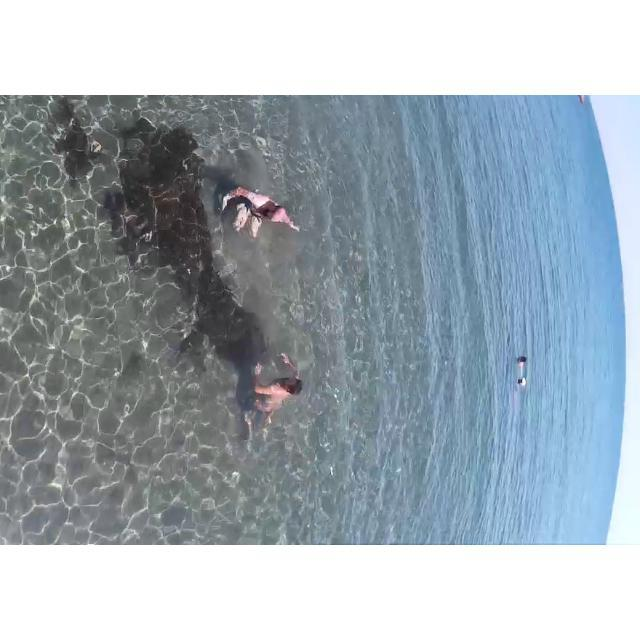human: (210, 177, 299, 249), (244, 347, 308, 432), (518, 377, 530, 398), (516, 352, 530, 367)
